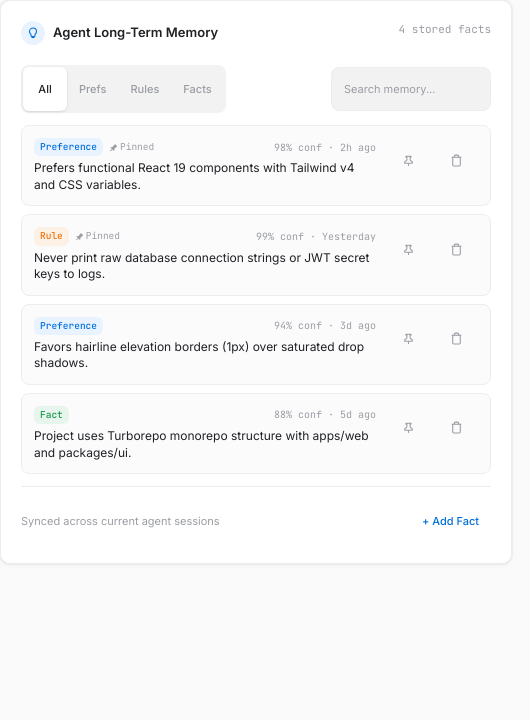
Test case: MemoryInspector › announces an updated total for every repeated Add Fact action
Click the button "+ Add Fact": point(450, 521) [410,499,491,543]
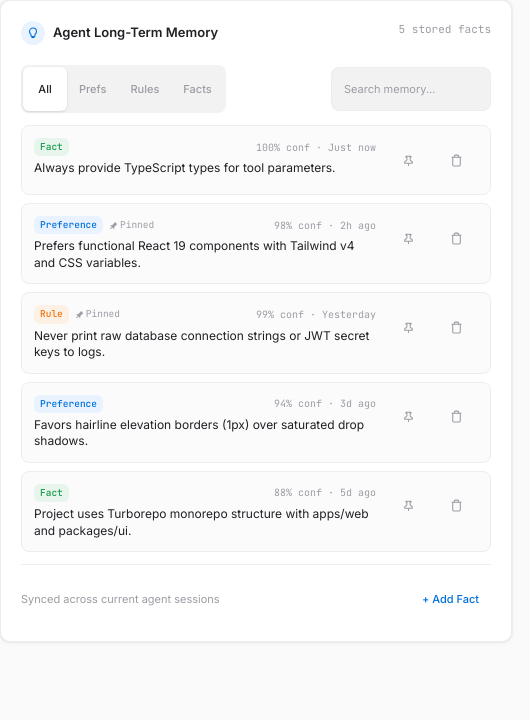
Expected: the text "5 stored facts" is shown, [399,21,491,38]
Expected: the text "fact" is shown 2 times, [34,138,69,156]; [34,484,69,502]
Expected: the text "Always provide TypeScript types for tool parameters." is shown, [34,160,376,177]
Click the button "+ Add Fact": point(450, 599) [410,577,491,621]
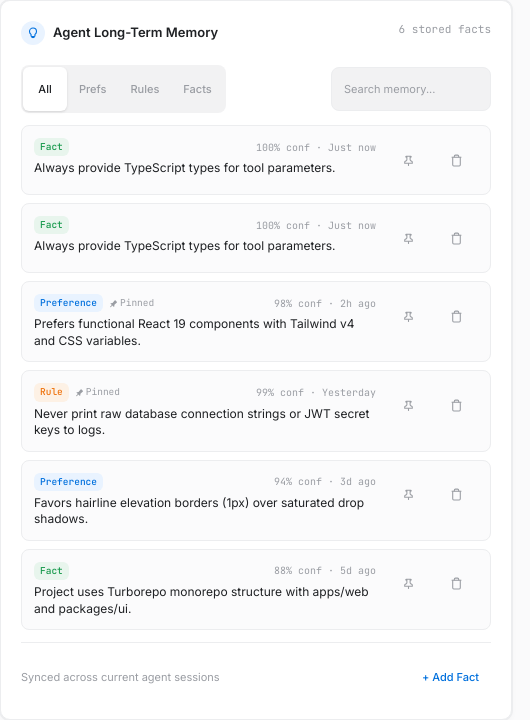
Expected: the text "6 stored facts" is shown, [399,21,491,38]
Expected: the text "fact" is shown 3 times, [34,138,69,156]; [34,216,69,234]; [34,562,69,580]
